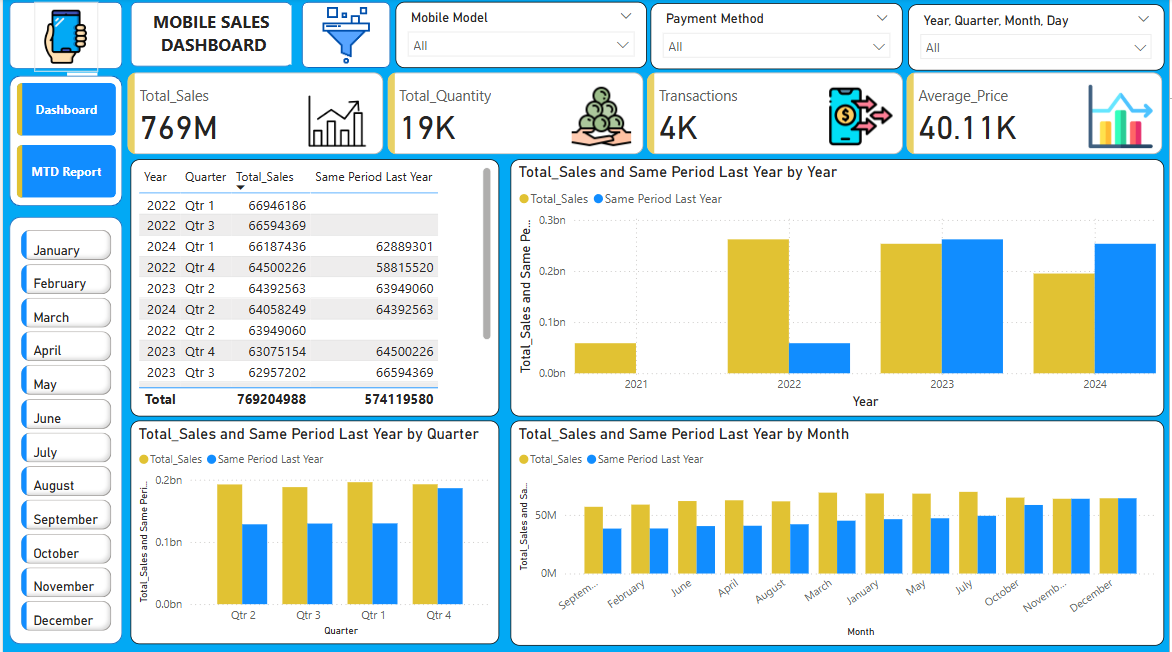

The page's visual inventory and layout, read from the dashboard file:
{"tool":"powerbi","page":{"name":"Same Period Last Year","canvas":[1280,720],"ordinal":2},"visuals":[{"type":"shape","box":[7.2,3.6,124.3,73.6],"z":0},{"type":"image","box":[35,3.6,68.8,77.2],"z":1000},{"type":"shape","box":[7.2,85.7,124.3,143.6],"z":2000},{"type":"cardVisual","fields":{"Data":["Mobile_Sales_Data.Total_Sales","Mobile_Sales_Data.Total_Quantity","Mobile_Sales_Data.Transactions","Mobile_Sales_Data.Average_Price"]},"box":[131.5,77.2,1148.5,100.1],"z":3000},{"type":"shape","box":[328,4.1,97.4,72.7],"z":4000},{"type":"slicer","fields":{"Values":["Mobile_Sales_Data.Mobile Model"]},"box":[430.9,4.1,275.8,72.7],"z":5000},{"type":"slicer","fields":{"Values":["Mobile_Sales_Data.Payment Method"]},"box":[710.8,5.5,277.2,72.7],"z":6000},{"type":"image","box":[328,4.1,97.4,74.1],"z":7000},{"type":"shape","box":[140,4.1,177,71.4],"z":8000},{"type":"textbox","box":[145.5,8.2,171.5,64.5],"z":9000},{"type":"slicer","fields":{"Values":["Custom_Calendar.Date.Variation.Date Hierarchy.Year","Custom_Calendar.Date.Variation.Date Hierarchy.Quarter","Custom_Calendar.Date.Variation.Date Hierarchy.Month","Custom_Calendar.Date.Variation.Date Hierarchy.Day"]},"box":[993.5,6.9,281.3,72.7],"z":10000},{"type":"shape","box":[7.2,240.1,124.3,469.3],"z":13000},{"type":"advancedSlicerVisual","fields":{"Values":["Custom_Calendar.Date.Variation.Date Hierarchy.Month"]},"box":[14.5,249.7,109.8,451.2],"z":14000},{"type":"tableEx","fields":{"Values":["Custom_Calendar.Date.Variation.Date Hierarchy.Year","Custom_Calendar.Date.Variation.Date Hierarchy.Quarter","Mobile_Sales_Data.Total_Sales","Mobile_Sales_Data.Same Period Last Year"]},"box":[140,177,404.8,282.7],"z":14001},{"type":"clusteredColumnChart","fields":{"Category":["Custom_Calendar.Date.Variation.Date Hierarchy.Year","Custom_Calendar.Date.Variation.Date Hierarchy.Quarter"],"Y":["Mobile_Sales_Data.Total_Sales","Mobile_Sales_Data.Same Period Last Year"]},"box":[557.1,177,717.7,282.7],"z":14002},{"type":"clusteredColumnChart","fields":{"Category":["Custom_Calendar.Date.Variation.Date Hierarchy.Year","Custom_Calendar.Date.Variation.Date Hierarchy.Quarter"],"Y":["Mobile_Sales_Data.Total_Sales","Mobile_Sales_Data.Same Period Last Year"]},"box":[140,463.8,404.8,245.6],"z":14003},{"type":"clusteredColumnChart","fields":{"Category":["Custom_Calendar.Date.Variation.Date Hierarchy.Year","Custom_Calendar.Date.Variation.Date Hierarchy.Quarter","Custom_Calendar.Date.Variation.Date Hierarchy.Month","Custom_Calendar.Date.Variation.Date Hierarchy.Day"],"Y":["Mobile_Sales_Data.Total_Sales","Mobile_Sales_Data.Same Period Last Year"]},"box":[557.1,463.8,717.7,247],"z":14004},{"type":"pageNavigator","box":[15.1,93.3,109.8,127.6],"z":14005}]}

Visuals, with their boxes in screenshot pixels (x1, y1, x2, y2), scaled from the page's 1280x720 canvas onto the 1172x652 screenshot:
shape: [left=7, top=3, right=120, bottom=70]
image: [left=32, top=3, right=95, bottom=73]
shape: [left=7, top=78, right=120, bottom=208]
cardVisual - Mobile_Sales_Data.Total_Sales x Mobile_Sales_Data.Total_Quantity: [left=120, top=70, right=1171, bottom=161]
shape: [left=300, top=4, right=390, bottom=70]
slicer - Mobile_Sales_Data.Mobile Model: [left=395, top=4, right=647, bottom=70]
slicer - Mobile_Sales_Data.Payment Method: [left=651, top=5, right=905, bottom=71]
image: [left=300, top=4, right=390, bottom=71]
shape: [left=128, top=4, right=290, bottom=68]
textbox: [left=133, top=7, right=290, bottom=66]
slicer - Custom_Calendar.Date.Variation.Date Hierarchy.Year x Custom_Calendar.Date.Variation.Date Hierarchy.Quarter: [left=910, top=6, right=1167, bottom=72]
shape: [left=7, top=217, right=120, bottom=642]
advancedSlicerVisual - Custom_Calendar.Date.Variation.Date Hierarchy.Month: [left=13, top=226, right=114, bottom=635]
tableEx - Custom_Calendar.Date.Variation.Date Hierarchy.Year x Custom_Calendar.Date.Variation.Date Hierarchy.Quarter: [left=128, top=160, right=499, bottom=416]
clusteredColumnChart - Custom_Calendar.Date.Variation.Date Hierarchy.Year x Custom_Calendar.Date.Variation.Date Hierarchy.Quarter: [left=510, top=160, right=1167, bottom=416]
clusteredColumnChart - Custom_Calendar.Date.Variation.Date Hierarchy.Year x Custom_Calendar.Date.Variation.Date Hierarchy.Quarter: [left=128, top=420, right=499, bottom=642]
clusteredColumnChart - Custom_Calendar.Date.Variation.Date Hierarchy.Year x Custom_Calendar.Date.Variation.Date Hierarchy.Quarter: [left=510, top=420, right=1167, bottom=644]
pageNavigator: [left=14, top=84, right=114, bottom=200]
